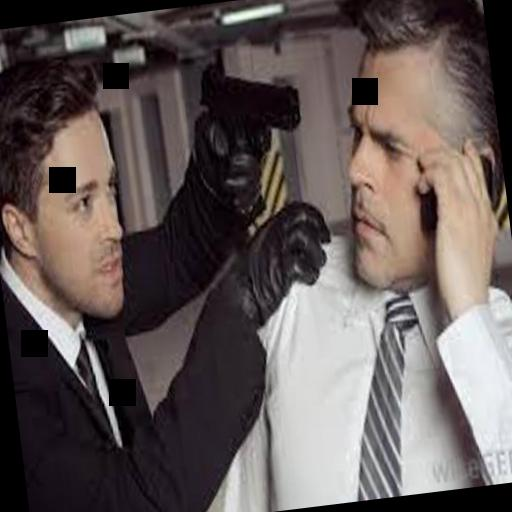Handgun: (190, 40, 319, 215)
